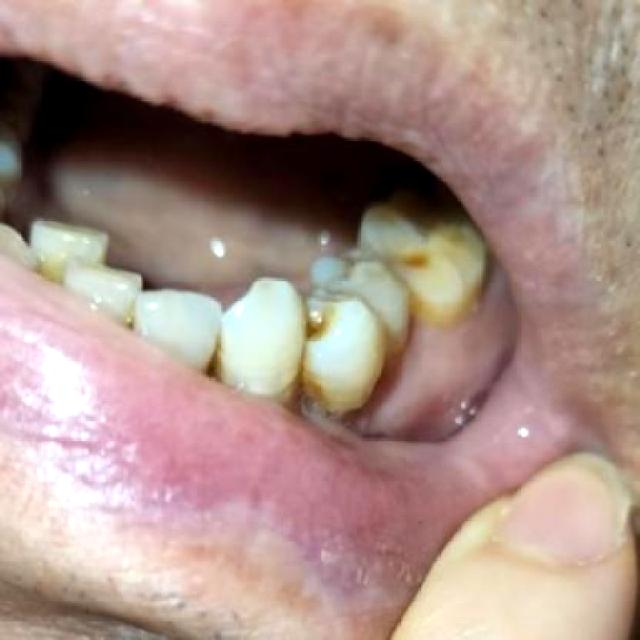Plaque: (307, 318, 328, 340)
